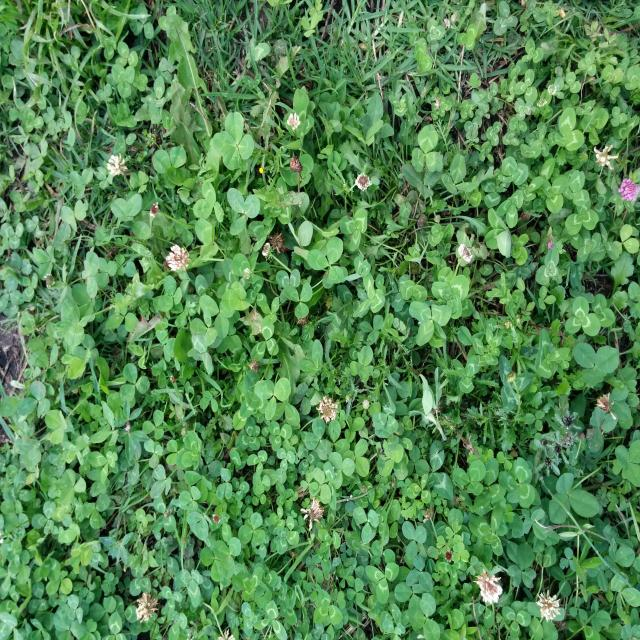Four Leaf Clover: (213, 113, 254, 169)
